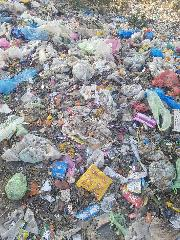general: (77, 164, 114, 202), (121, 184, 148, 210), (133, 111, 157, 129), (74, 204, 100, 220), (49, 160, 68, 180), (147, 210, 153, 226)
plastic: (8, 130, 64, 162), (148, 85, 174, 133), (1, 70, 42, 94), (5, 172, 31, 202), (72, 62, 98, 84)
